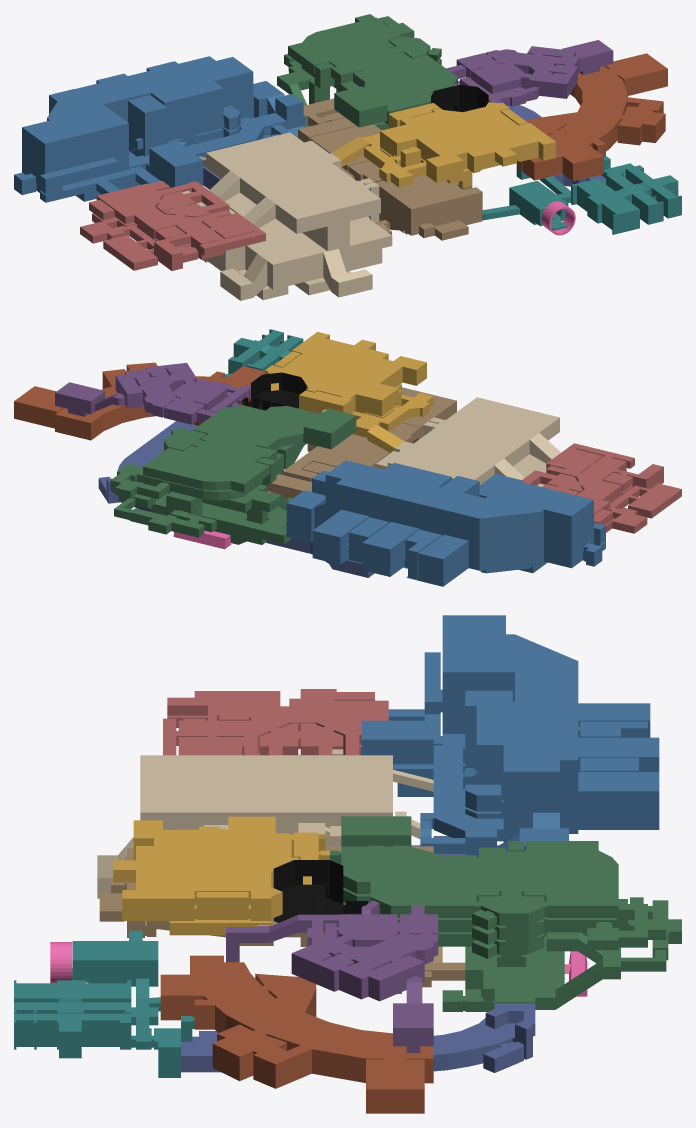
The model's file is stella-3d-reference.glb.
3 views of the same model, one above another, from view 1: azimuth 30°, elevation 25°; view 2: azimuth 150°, elevation 25°; view 3: azimuth 270°, elevation 25° (orthographic). The views are drawn at different scales.
Visible parts, largest first — view 1: assembly, loading bay, lobby, atrium, medical, archives, sandbox, seed vault, business center, communications, metro, seed vault extract; view 2: assembly, lobby, atrium, loading bay, medical, business center, archives, sandbox, metro, seed vault, communications, lobby metro extract; view 3: assembly, lobby, archives, loading bay, atrium, seed vault, business center, medical, metro, communications, sandbox, seed vault extract.
Boxes of the visible parts, box(x1,y1,x2,y2) form: assembly: box(14, 56, 306, 202); loading bay: box(182, 132, 392, 300); lobby: box(277, 14, 457, 130); atrium: box(331, 102, 555, 187); medical: box(80, 180, 265, 270); archives: box(516, 53, 667, 181); sandbox: box(298, 98, 482, 240); seed vault: box(482, 156, 681, 234); business center: box(446, 40, 613, 106); communications: box(431, 85, 488, 111); metro: box(203, 80, 605, 189); seed vault extract: box(541, 201, 575, 235); assembly: box(286, 460, 605, 586); lobby: box(110, 405, 356, 544); atrium: box(264, 332, 433, 452); loading bay: box(375, 397, 560, 486); medical: box(522, 443, 681, 533); business center: box(55, 362, 250, 424); archives: box(14, 362, 264, 440); sandbox: box(267, 387, 456, 506); metro: box(98, 421, 374, 577); seed vault: box(225, 329, 303, 376); communications: box(241, 372, 306, 410); lobby metro extract: box(173, 530, 231, 549); assembly: box(361, 615, 659, 858); lobby: box(330, 816, 681, 1011); archives: box(160, 955, 433, 1113); loading bay: box(97, 749, 433, 898); atrium: box(113, 816, 329, 935); seed vault: box(14, 930, 194, 1077); business center: box(226, 900, 438, 1052); medical: box(163, 689, 388, 755); metro: box(181, 836, 535, 1072); communications: box(273, 860, 368, 922); sandbox: box(99, 846, 465, 993); seed vault extract: box(50, 942, 72, 983).
Bounding box in the file's own units: 109 × 19.25 × 74.
